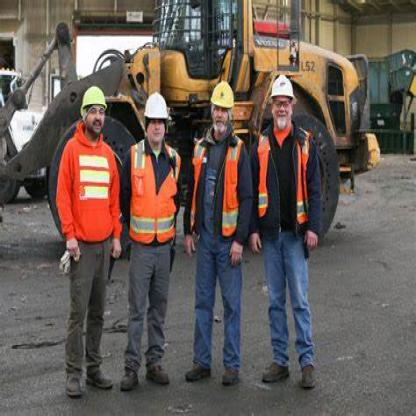person: (255, 59, 334, 392), (49, 69, 112, 398), (186, 57, 243, 400), (118, 80, 176, 415)
